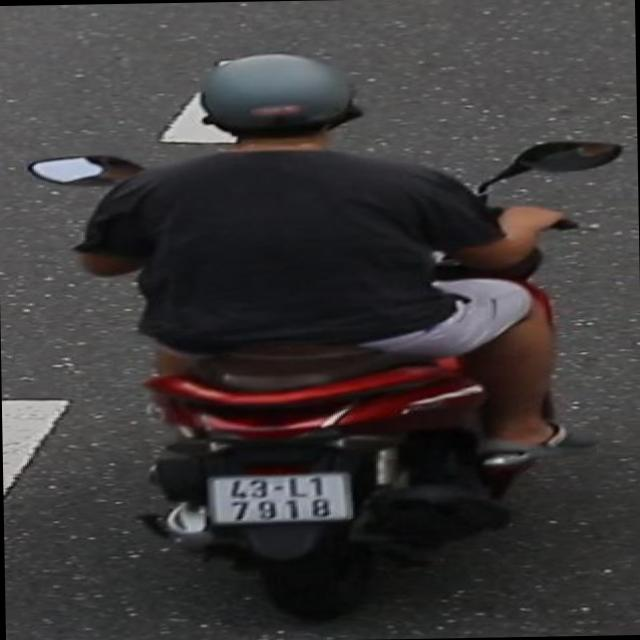LP: (201, 466, 361, 530)
helmet: (189, 46, 375, 163)
